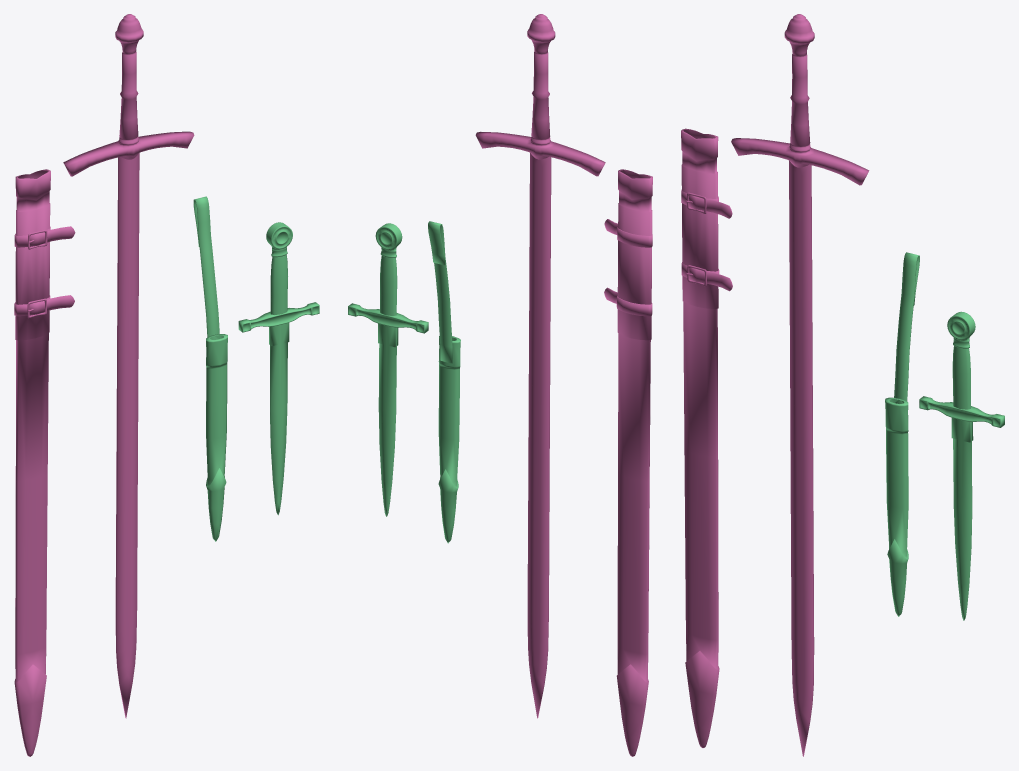
The model's file is spade.obj.
3 views of the same model, side by side, from view 1: azimuth 30°, elevation 25°; view 2: azimuth 150°, elevation 25°; view 3: azimuth 330°, elevation 25° (orthographic). The views are drawn at different scales.
Bounding box in the file's own units: 3.53 × 8.02 × 0.512.
